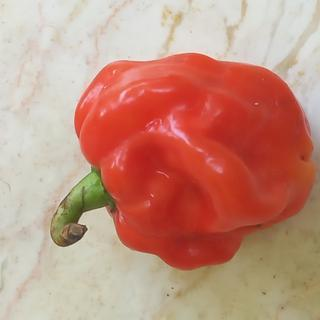Grade-B: (68, 45, 317, 271)
